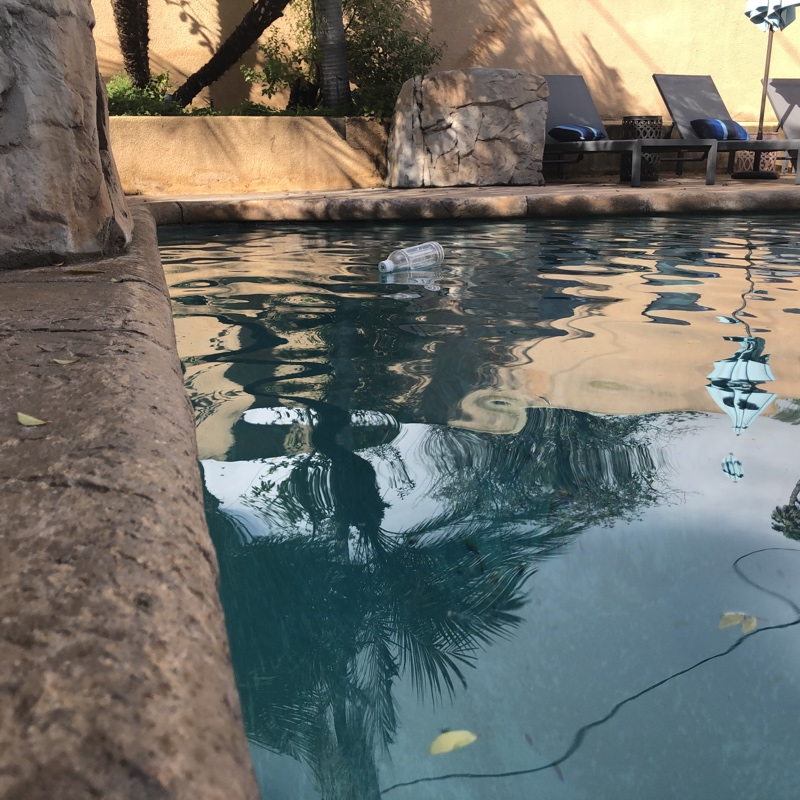Plastic Bottle: (371, 235, 450, 277)
